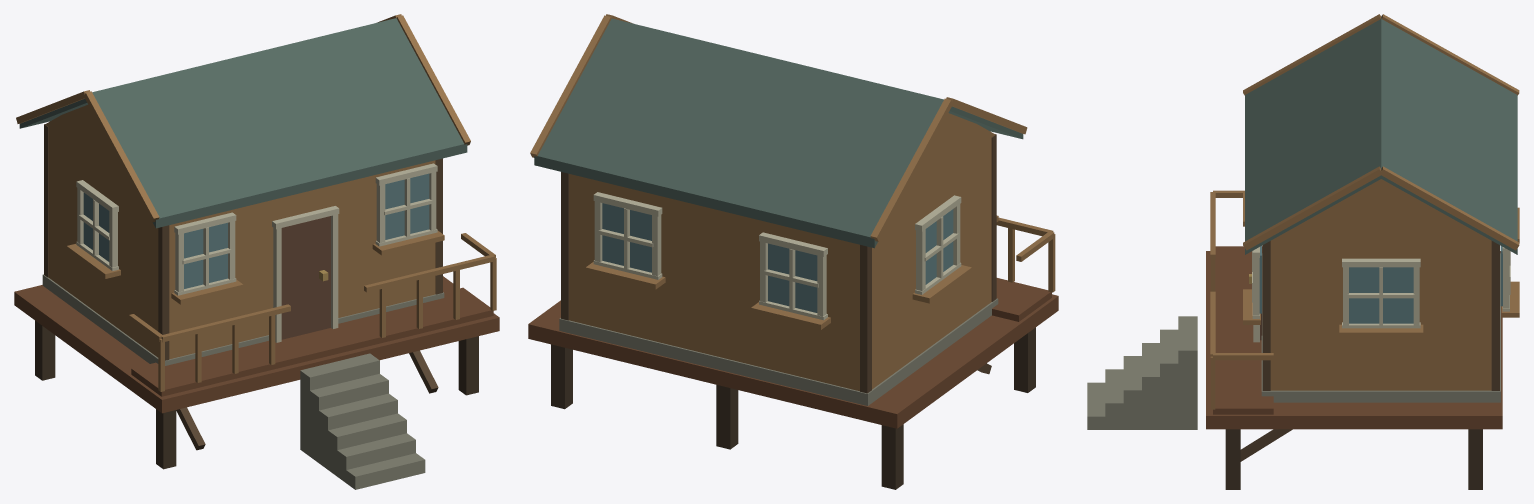
Rendered from Building_Settlement_StiltLakesideHouse_001.glb.
3 renders of one model, left to right at view 1: azimuth 30°, elevation 25°; view 2: azimuth 150°, elevation 25°; view 3: azimuth 270°, elevation 25°, orthographic. The views are drawn at different scales.
Parts seen in each view (by area): view 1: Building_Settlement_StiltLakesideHouse_001; view 2: Building_Settlement_StiltLakesideHouse_001; view 3: Building_Settlement_StiltLakesideHouse_001.
Boxes of the visible parts, x1,y1,x2,y2 form: Building_Settlement_StiltLakesideHouse_001: [14, 14, 499, 489]; Building_Settlement_StiltLakesideHouse_001: [528, 14, 1058, 489]; Building_Settlement_StiltLakesideHouse_001: [1087, 14, 1519, 489].
Size of the model in its own units: 5.8 by 5.26 by 6.42.
